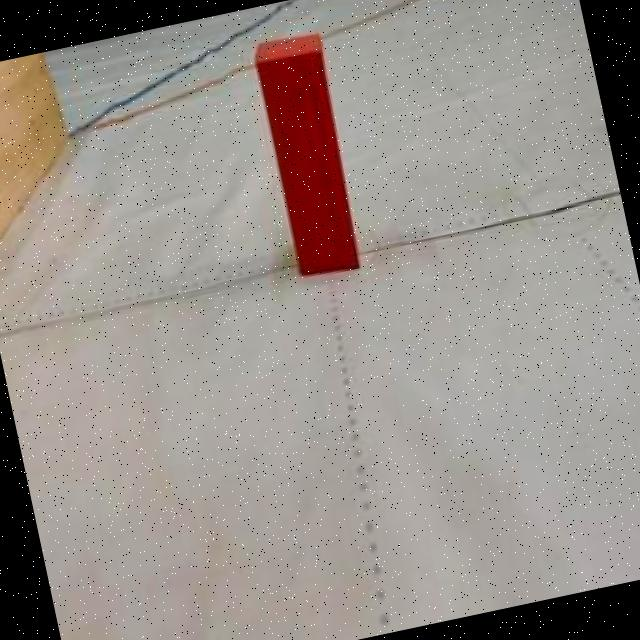redbox: (245, 28, 372, 280)
